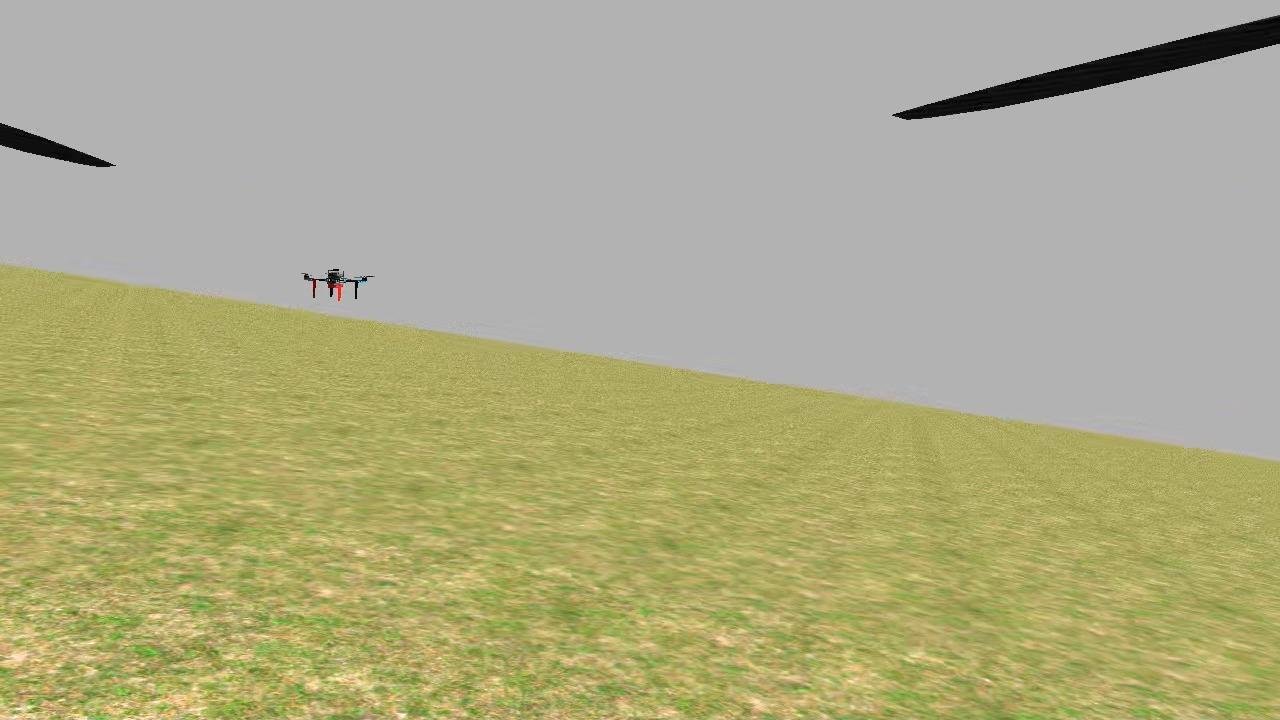UAV: (292, 254, 376, 307)
